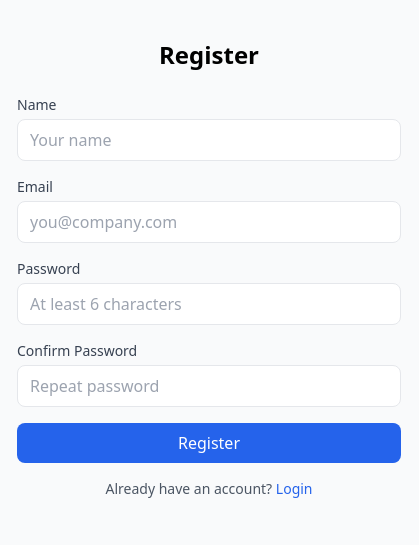
Test: RegisterPage › shows validation error for empty name
Click the button "Register": (209, 443) [17,423,401,463]
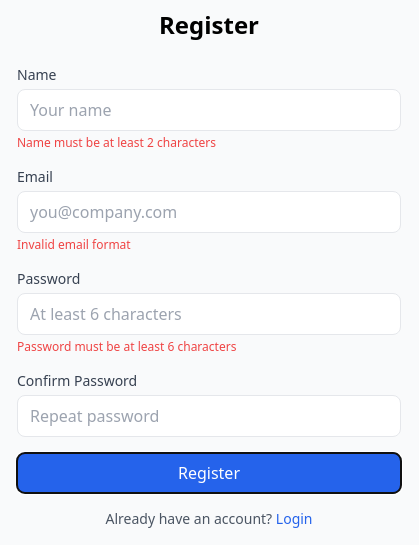
Now the text "Name must be at least 2 characters" is shown, box [17,134,216,151]
